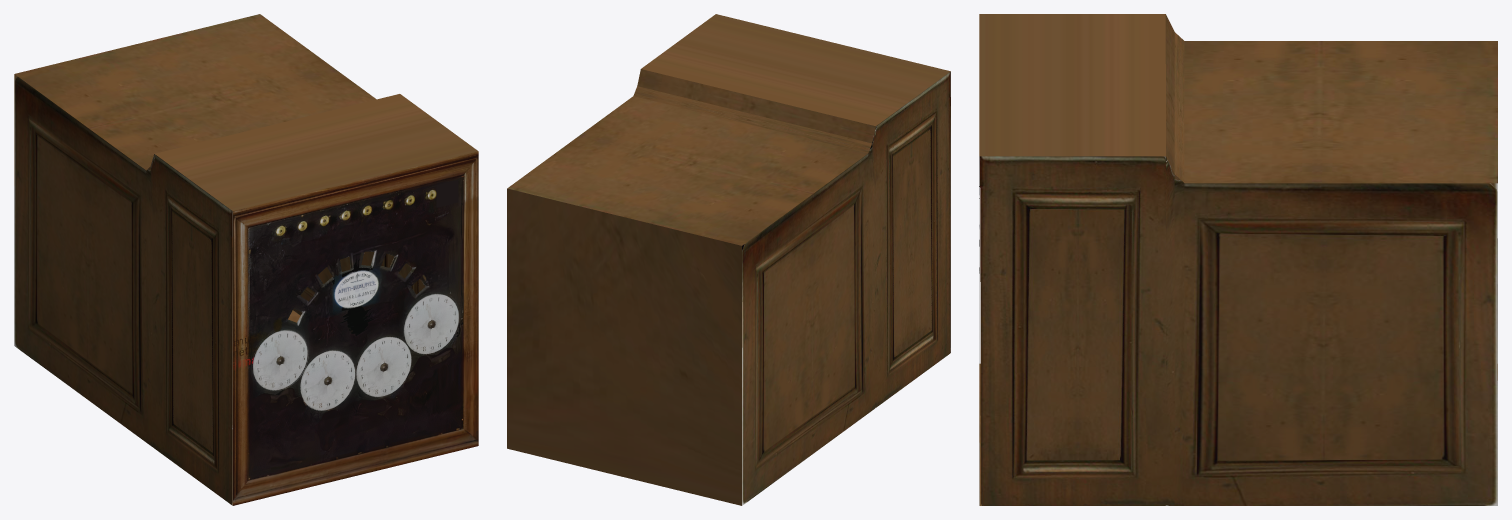
File: boitierTrou.dae
3 renders of one model, left to right at view 1: azimuth 30°, elevation 25°; view 2: azimuth 150°, elevation 25°; view 3: azimuth 270°, elevation 25°, orthographic. The views are drawn at different scales.
Visible parts, largest first — view 1: boitier; view 2: boitier; view 3: boitier.
Part boxes in pixels (x1=…): boitier: x1=14, y1=14, x2=478, y2=505; boitier: x1=507, y1=14, x2=950, y2=505; boitier: x1=979, y1=14, x2=1497, y2=505.
Size of the model in its own units: 9.19 by 14.16 by 10.53.
2 materials, 2 textured.
